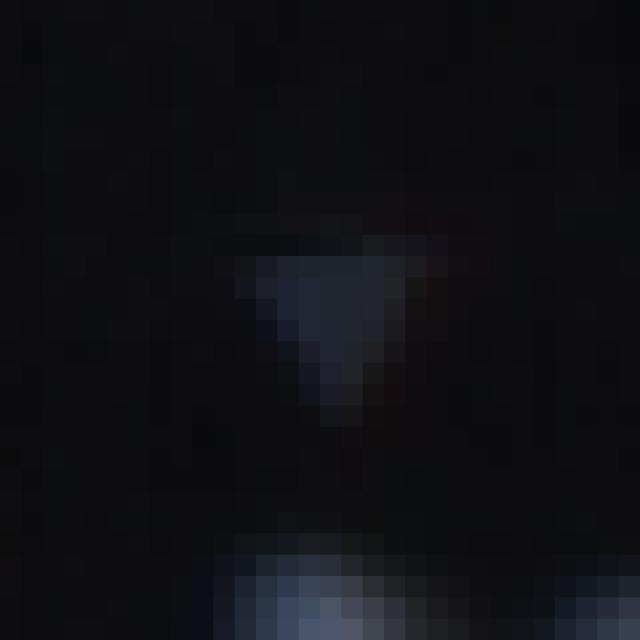Give Way: (108, 108, 534, 534)
